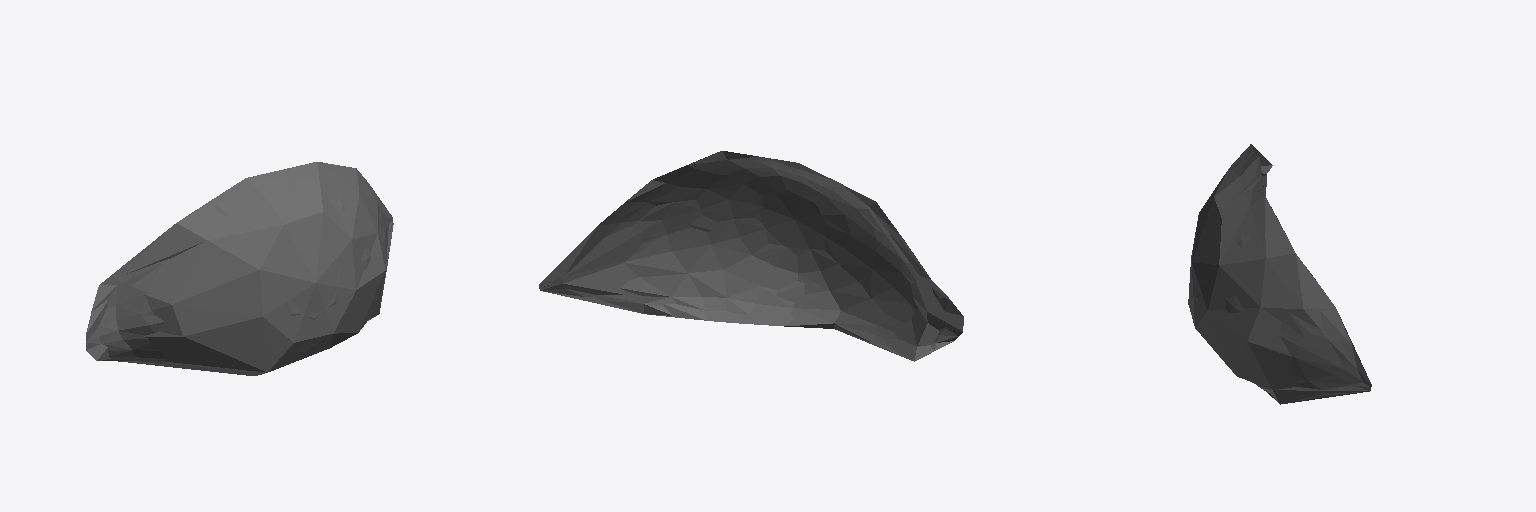
File: ochi_stang.obj
3 renders of one model, left to right at view 1: azimuth 30°, elevation 25°; view 2: azimuth 150°, elevation 25°; view 3: azimuth 270°, elevation 25°, orthographic.
Parts seen in each view (by area): view 1: eyeL_lo.006, eyeL_hi.006; view 2: eyeL_hi.006, eyeL_lo.006; view 3: eyeL_lo.006, eyeL_hi.006.
Part boxes in pixels (x1,y1,x2,y2): eyeL_lo.006: (86, 162, 393, 375); eyeL_hi.006: (86, 166, 393, 364); eyeL_hi.006: (539, 151, 963, 360); eyeL_lo.006: (539, 154, 963, 361); eyeL_lo.006: (1188, 144, 1370, 404); eyeL_hi.006: (1190, 145, 1371, 403).
Bounding box in the file's own units: 2.44 × 1.15 × 1.06.